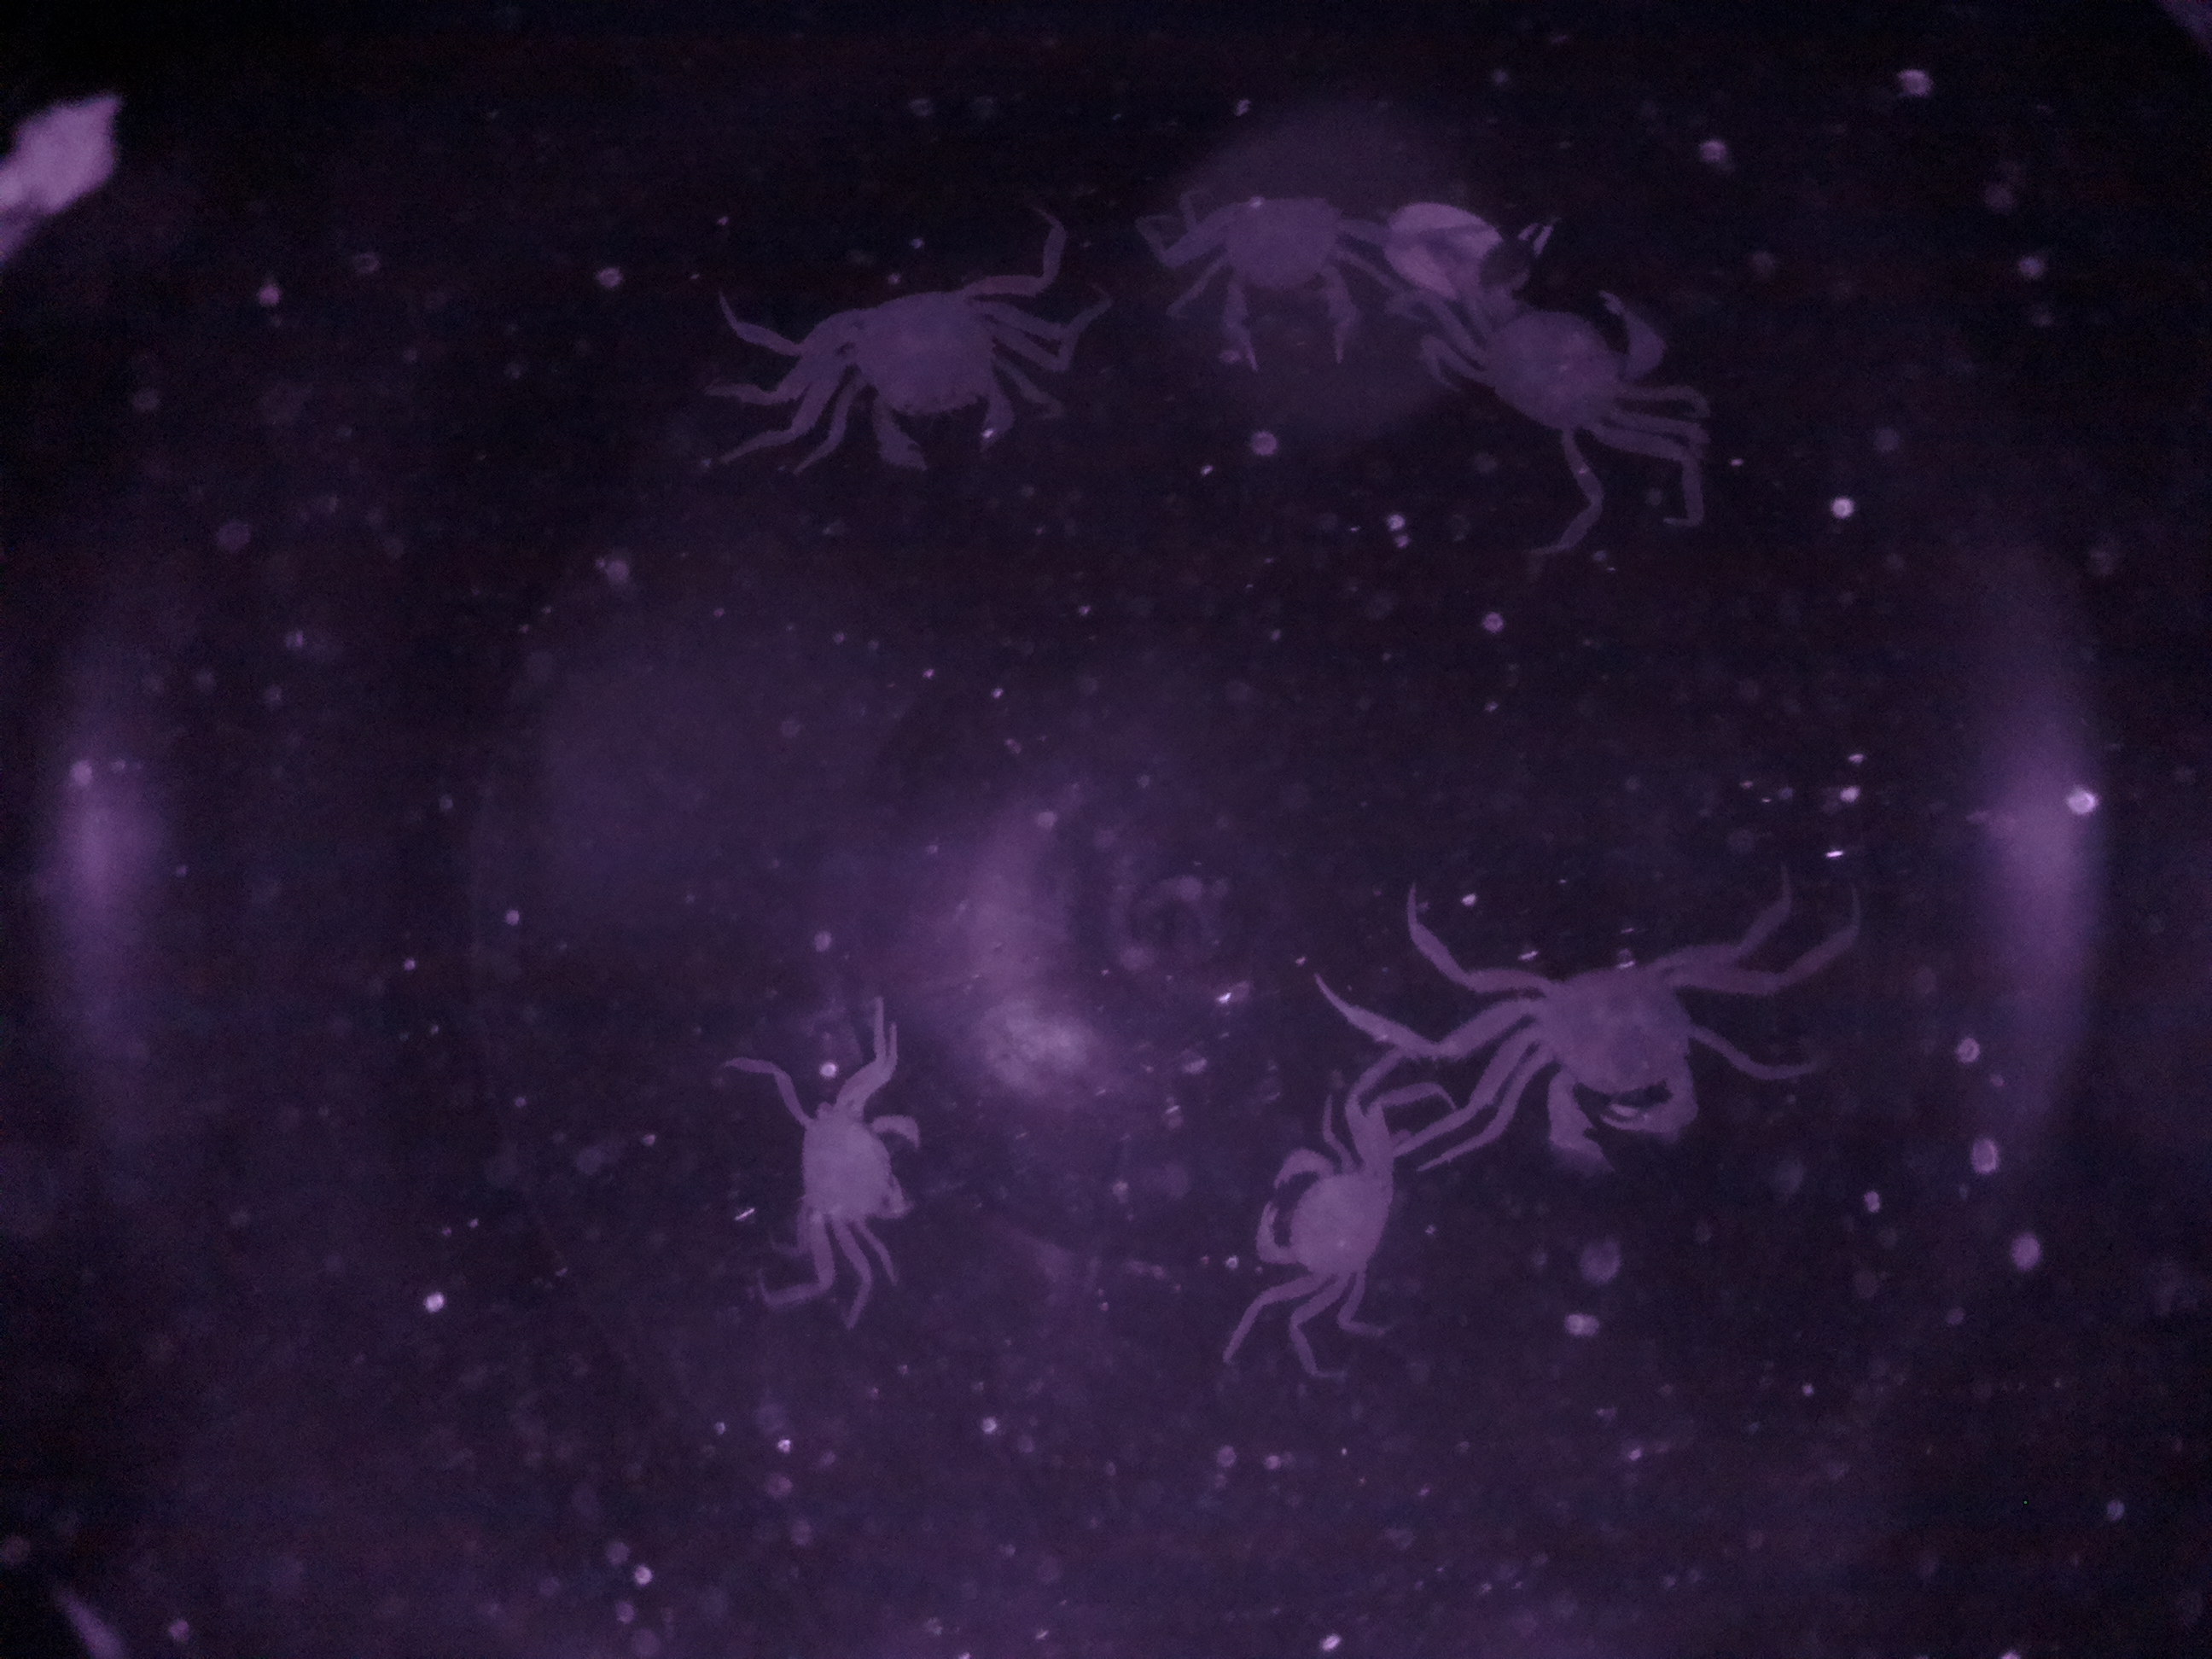Crab: (1400, 186, 1733, 472), (1447, 918, 1787, 1185), (772, 251, 1085, 490), (1235, 1070, 1423, 1354), (751, 1049, 951, 1291)
